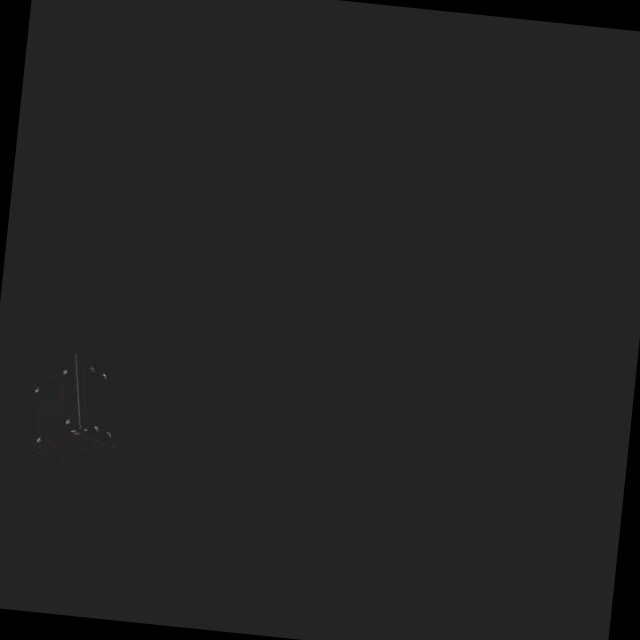satellite: (23, 347, 124, 456)
